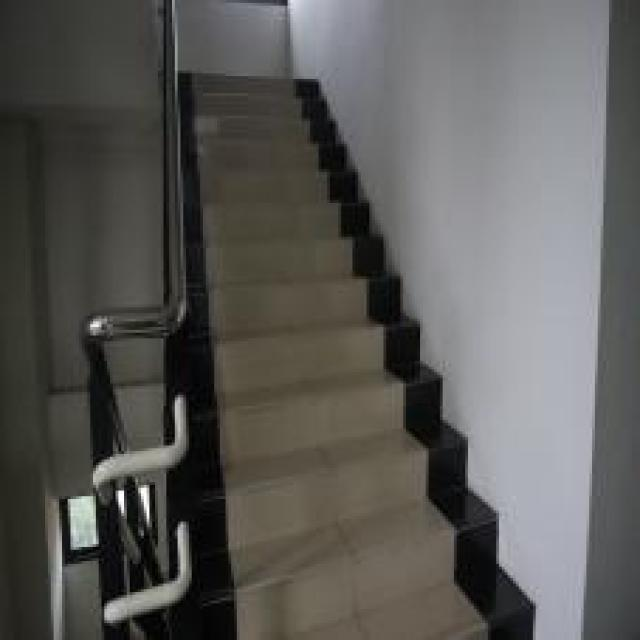upstair: (181, 148, 469, 638)
